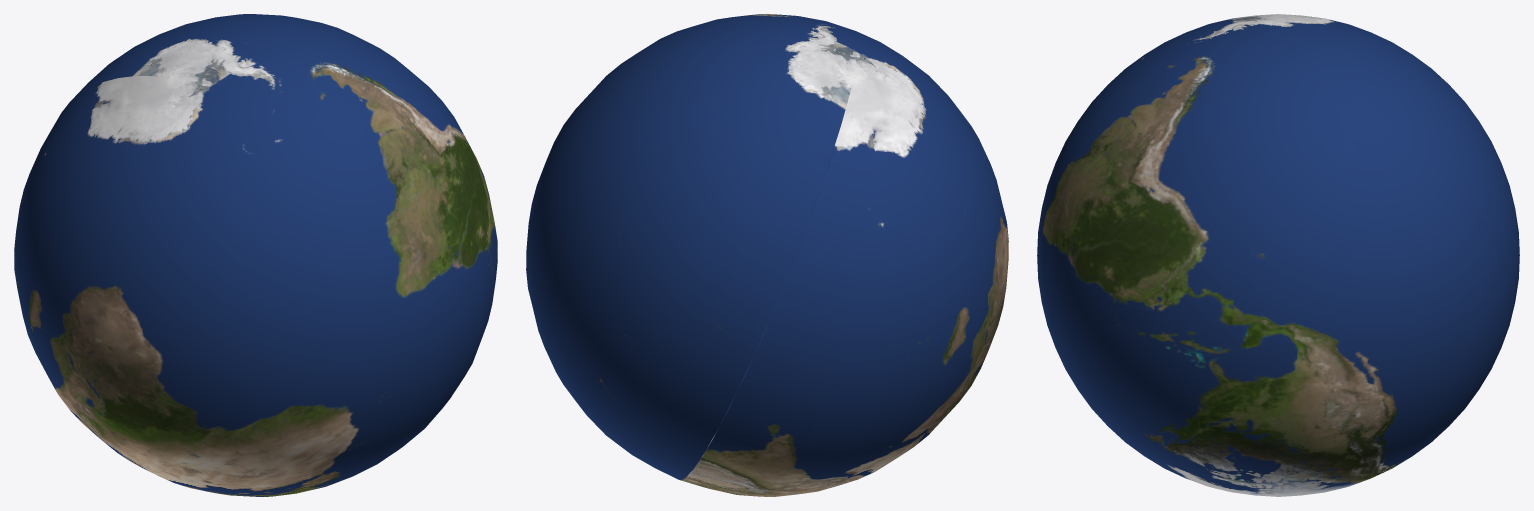
The model's file is Planet.gltf.
3 renders of one model, left to right at view 1: azimuth 30°, elevation 25°; view 2: azimuth 150°, elevation 25°; view 3: azimuth 270°, elevation 25°, orthographic.
Parts seen in each view (by area): view 1: Plane; view 2: Plane; view 3: Plane.
Boxes of the visible parts, box(x1,y1,x2,y2) form: Plane: box(14, 14, 497, 496); Plane: box(526, 14, 1008, 496); Plane: box(1037, 14, 1519, 496).
Size of the model in its own units: 5.44 by 5.44 by 5.44.
1 material, 1 textured.
